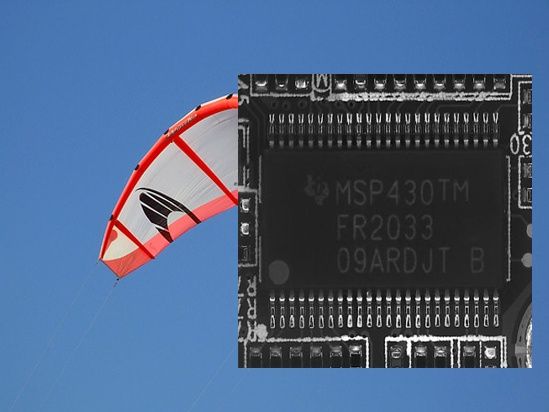PIN: (259, 103, 510, 161), (259, 276, 510, 332)
kite: (102, 94, 366, 337)
